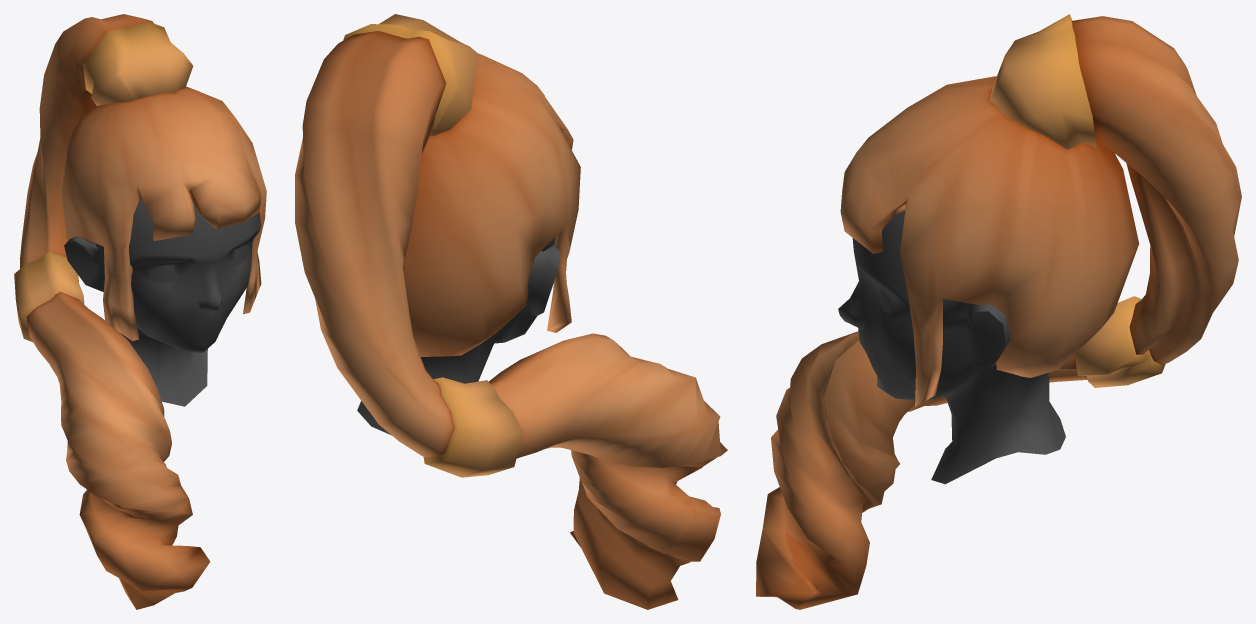
File: doki-twisted-pony-tail.glb
The picture shows the model from 3 angles, left to right: view 1: azimuth 30°, elevation 25°; view 2: azimuth 150°, elevation 25°; view 3: azimuth 270°, elevation 25°; orthographic projection. The views are drawn at different scales.
Parts seen in each view (by area): view 1: Twisted, Head_BaseMesh; view 2: Twisted, Head_BaseMesh; view 3: Twisted, Head_BaseMesh.
Part boxes in pixels (<box>): Twisted: <box>14,14,266,609</box>; Head_BaseMesh: <box>64,190,261,406</box>; Twisted: <box>295,14,727,609</box>; Head_BaseMesh: <box>357,237,559,435</box>; Twisted: <box>756,14,1241,609</box>; Head_BaseMesh: <box>838,210,1065,484</box>.
Size of the model in its own units: 0.7864 by 1.51 by 1.05.
2 materials, 2 textured.
